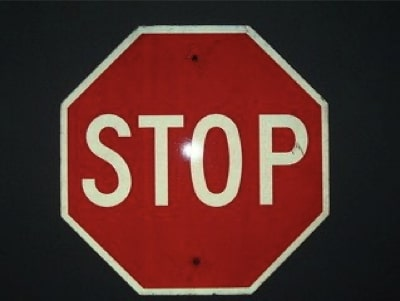StopSign: (58, 23, 333, 298)
